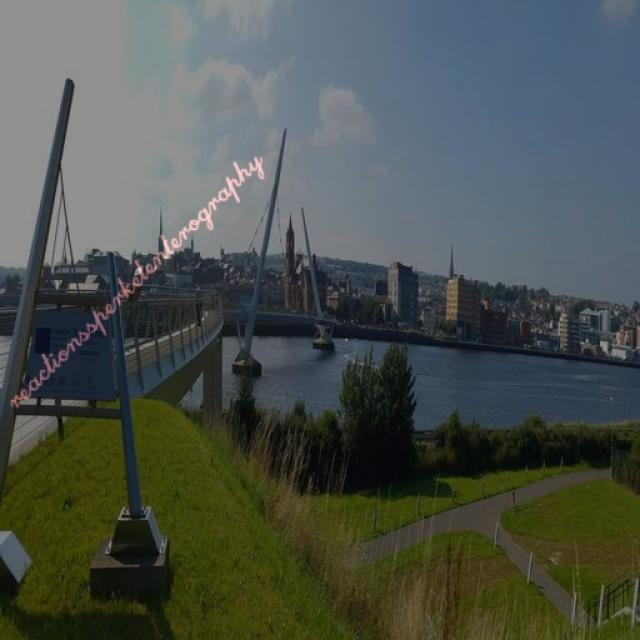watermark: (7, 137, 263, 414)
